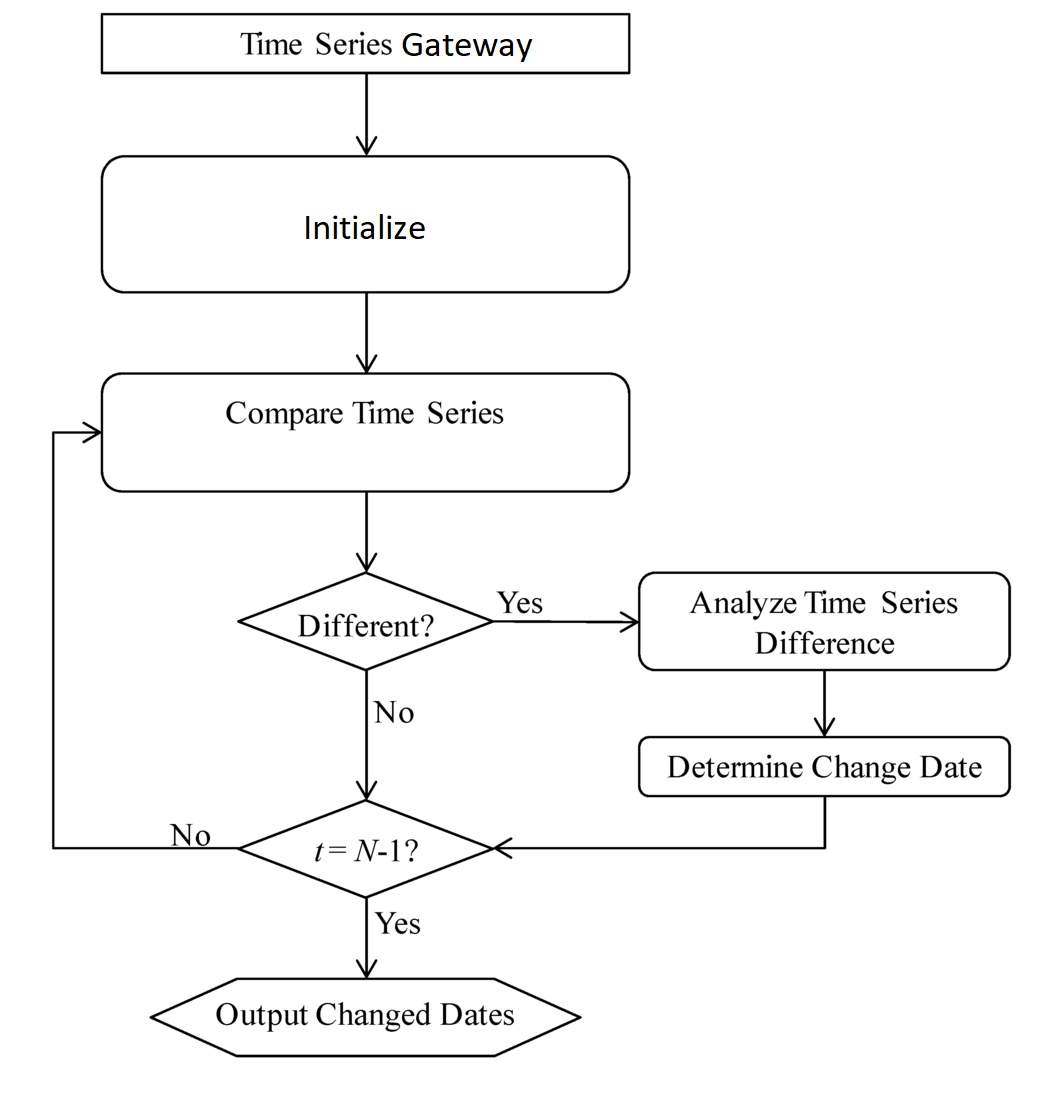arrow: (45, 419, 248, 852), (491, 790, 830, 863), (351, 667, 384, 803), (484, 607, 645, 633), (350, 487, 380, 577), (351, 66, 378, 154), (355, 889, 380, 981), (354, 289, 380, 375), (812, 670, 840, 733)
decision: (232, 794, 497, 904), (228, 567, 501, 673)
process: (94, 149, 635, 299), (95, 367, 634, 495), (633, 567, 1014, 677), (144, 973, 585, 1063), (94, 5, 636, 78), (634, 728, 1018, 799)
text: (688, 585, 959, 655), (231, 25, 536, 67), (661, 747, 985, 784), (204, 1000, 519, 1036), (218, 393, 505, 429), (292, 606, 433, 643), (295, 206, 424, 246), (312, 836, 417, 870), (162, 812, 215, 856), (490, 583, 548, 614), (372, 902, 421, 936), (368, 694, 414, 727)
